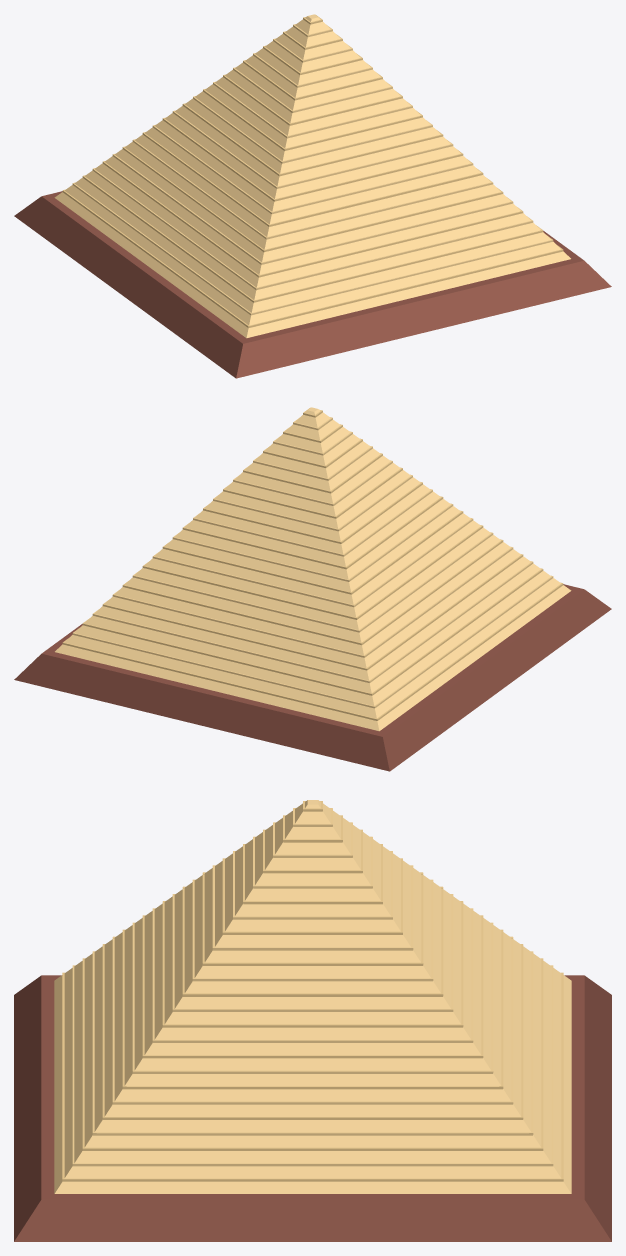
Rendered from giza-menkaure-ruin.glb.
3 views of the same model, one above another, from view 1: azimuth 30°, elevation 25°; view 2: azimuth 150°, elevation 25°; view 3: azimuth 270°, elevation 25° (orthographic). The views are drawn at different scales.
Size of the model in its own units: 102 by 61.01 by 105.
